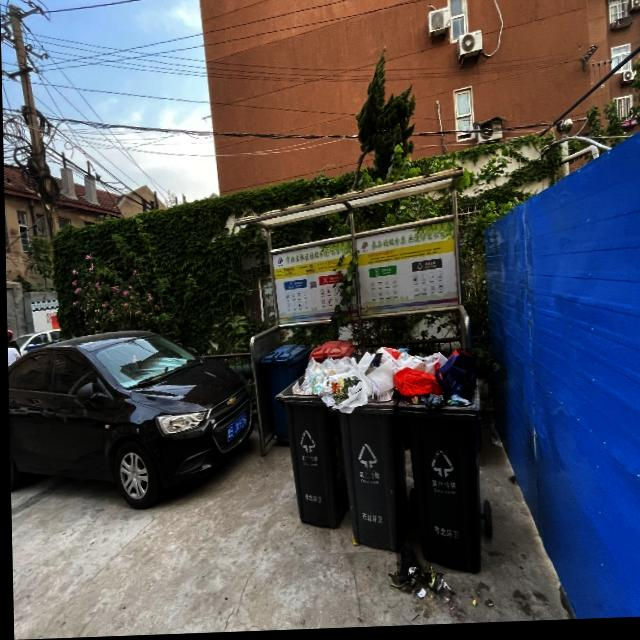garbage: (383, 545, 448, 602)
garbage_bin: (258, 345, 311, 444)
overflow: (390, 351, 478, 579), (325, 349, 405, 556), (271, 357, 344, 533)
